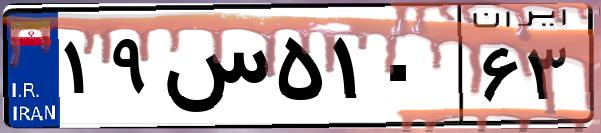0: (385, 28, 445, 110)
1: (330, 28, 385, 110), (57, 26, 110, 100)
3: (525, 38, 570, 115)
5: (270, 28, 330, 110)
6: (475, 38, 525, 113)
9: (110, 28, 158, 98)
س: (158, 20, 270, 120)
